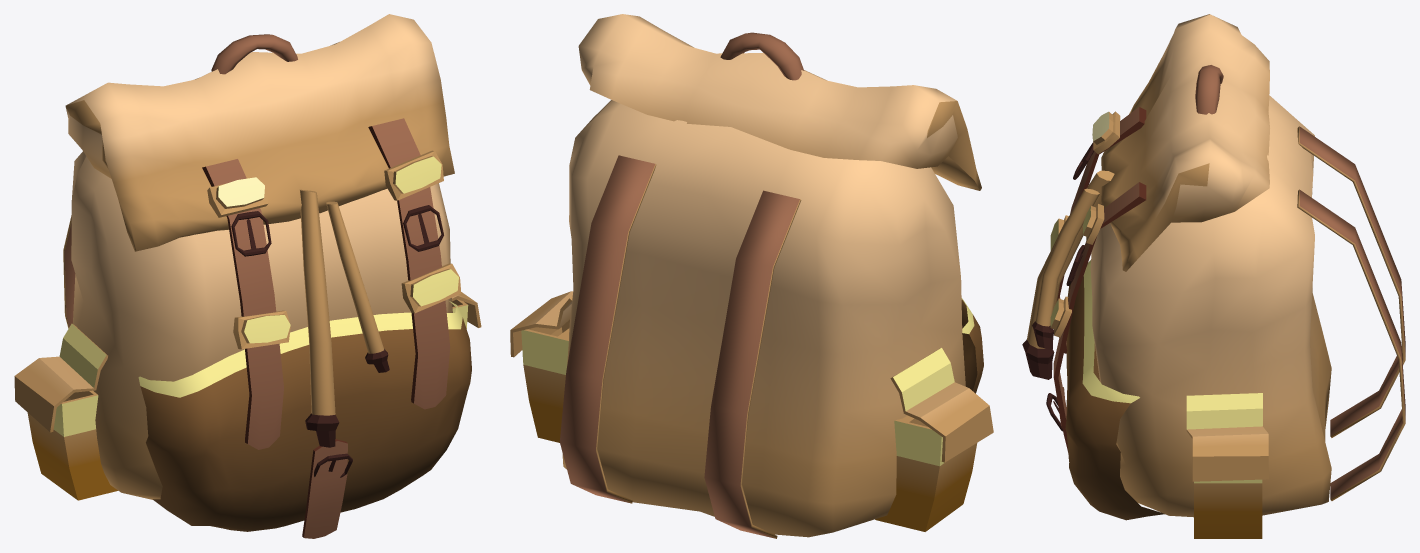
The model's file is SM_BackPack_10.fbx.
3 renders of one model, left to right at view 1: azimuth 30°, elevation 25°; view 2: azimuth 150°, elevation 25°; view 3: azimuth 270°, elevation 25°, orthographic. The views are drawn at different scales.
Parts seen in each view (by area): view 1: SM_BackPack_10; view 2: SM_BackPack_10; view 3: SM_BackPack_10.
Part boxes in pixels (x1,y1,x2,y2): SM_BackPack_10: [14, 14, 481, 538]; SM_BackPack_10: [510, 14, 993, 538]; SM_BackPack_10: [1022, 14, 1405, 538].
Size of the model in its own units: 149 by 149 by 124.
